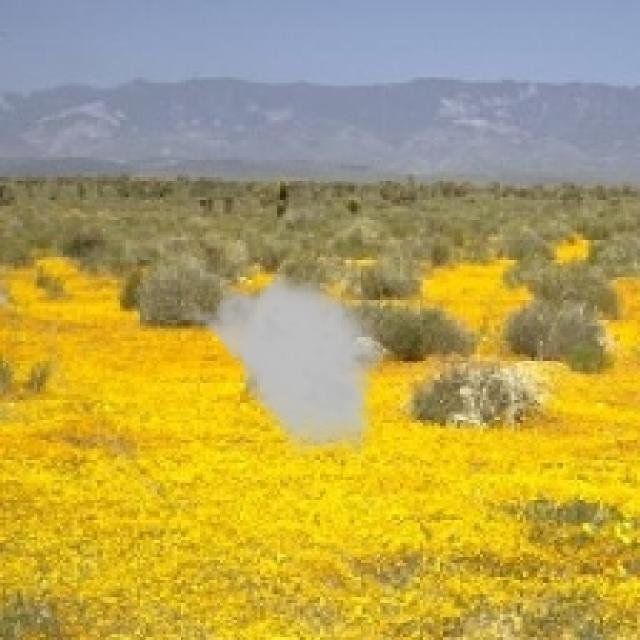smoke: (174, 266, 386, 466)
